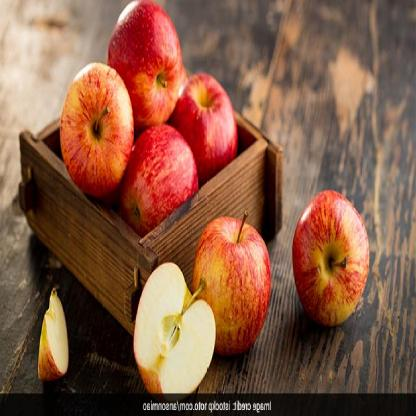apple: (189, 214, 277, 362), (104, 0, 195, 124), (54, 54, 135, 192), (291, 190, 371, 327), (123, 122, 199, 250), (168, 75, 240, 188)
